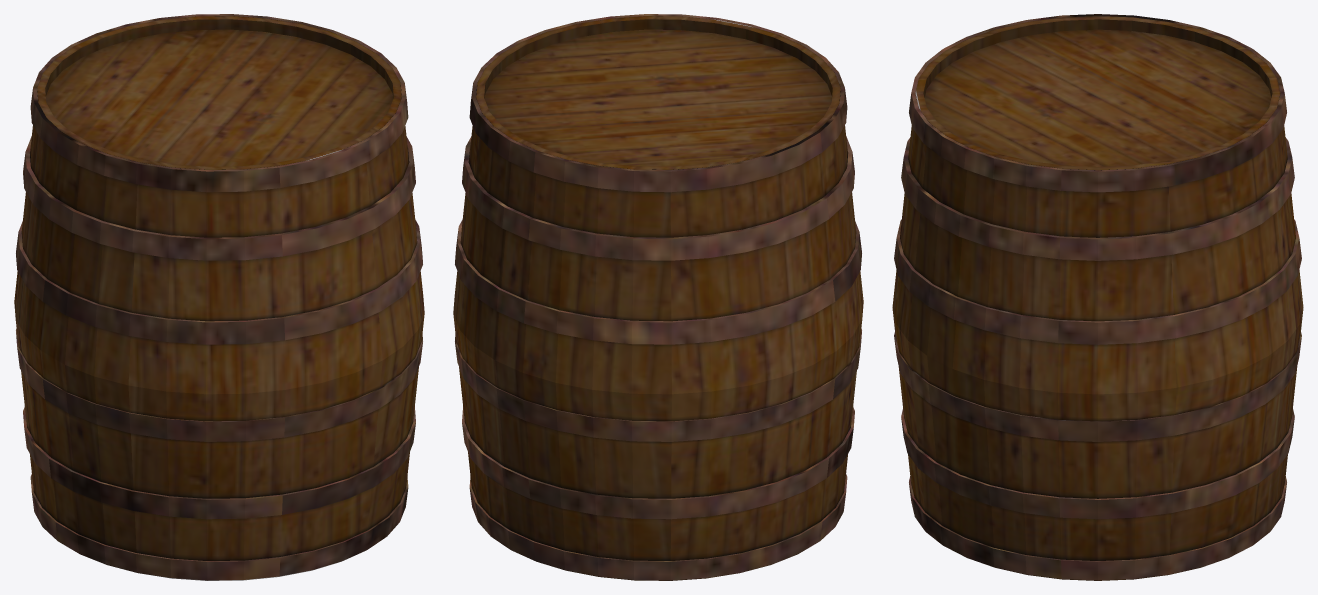
File: sweethome3d-blendswap-cc-0-barrel-71.glb
The picture shows the model from 3 angles, left to right: view 1: azimuth 30°, elevation 25°; view 2: azimuth 150°, elevation 25°; view 3: azimuth 270°, elevation 25°; orthographic projection.
Visible parts, largest first — view 1: Cylinder; view 2: Cylinder; view 3: Cylinder.
Boxes of the visible parts, box(x1,y1,x2,y2) form: Cylinder: box(14, 14, 424, 580); Cylinder: box(453, 14, 863, 580); Cylinder: box(892, 14, 1303, 580).
Size of the model in its own units: 81.49 by 89.68 by 81.49.
Materials: 2 (2 with a texture image).
